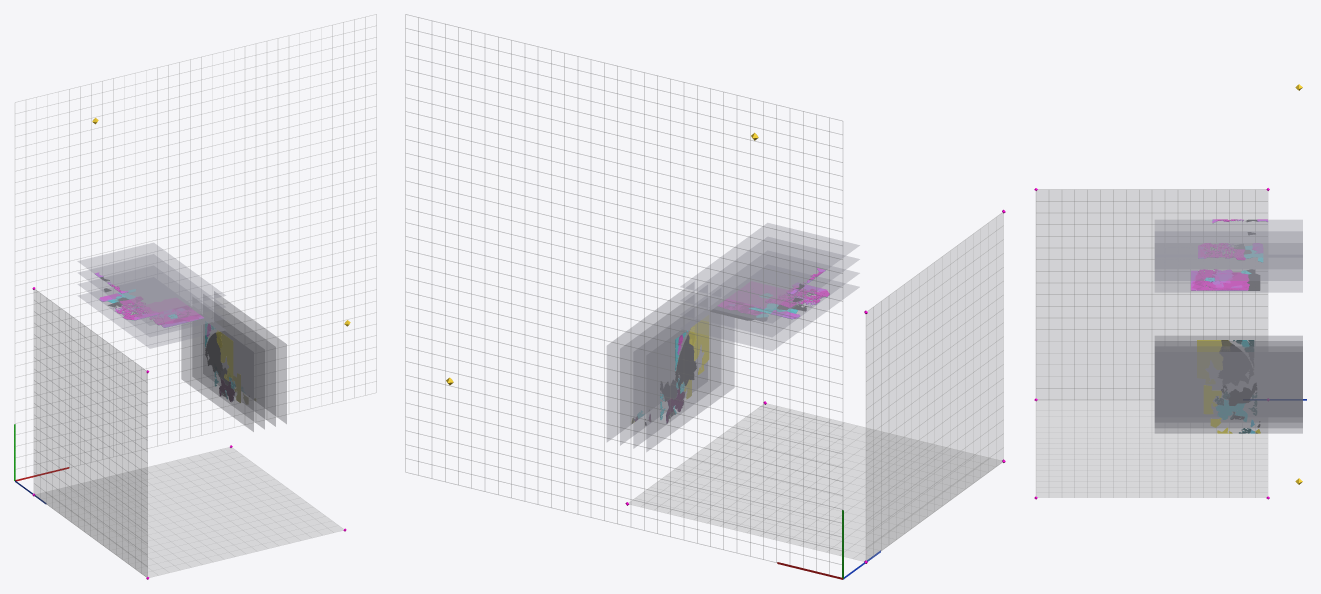
The model's file is shards.obj.
3 renders of one model, left to right at view 1: azimuth 30°, elevation 25°; view 2: azimuth 150°, elevation 25°; view 3: azimuth 270°, elevation 25°, orthographic. The views are drawn at different scales.
Visible parts, largest first — view 1: wall_A, wall_B, grid_floor, panel_B3, panel_B2, panel_A0, panel_A1, panel_A3, panel_A2, panel_B0, panel_B1, M (+4 smaller); view 2: wall_A, wall_B, grid_floor, panel_B3, panel_A0, panel_B2, panel_A1, panel_A3, panel_A2, panel_B0, panel_B1, grid_wallA (+5 smaller); view 3: wall_A, wall_B, panel_A2, panel_A3, panel_B2, panel_B3, grid_wallA, panel_B1, panel_B0, K, M, panel_A1 (+4 smaller).
Part boxes in pixels (x1,y1,x2,y2): wall_A: [34, 290, 147, 576]; wall_B: [36, 447, 343, 577]; grid_floor: [15, 14, 376, 469]; panel_B3: [77, 243, 225, 313]; panel_B2: [78, 254, 225, 325]; panel_A0: [181, 322, 253, 431]; panel_A1: [192, 311, 264, 429]; panel_A3: [214, 291, 286, 423]; panel_A2: [203, 299, 275, 426]; panel_B0: [78, 290, 225, 348]; panel_B1: [78, 279, 225, 336]; M: [94, 272, 233, 400]; wall_A: [866, 213, 1003, 560]; wall_B: [629, 404, 1001, 560]; grid_floor: [405, 14, 842, 574]; panel_B3: [680, 223, 859, 309]; panel_A0: [646, 319, 734, 451]; panel_B2: [680, 237, 859, 323]; panel_A1: [633, 305, 720, 448]; panel_A3: [607, 282, 694, 441]; panel_A2: [620, 292, 707, 445]; panel_B0: [680, 280, 859, 350]; panel_B1: [680, 266, 859, 336]; grid_wallA: [866, 212, 1003, 560]; wall_A: [1036, 190, 1267, 399]; wall_B: [1036, 400, 1267, 497]; panel_A2: [1155, 346, 1302, 427]; panel_A3: [1155, 352, 1302, 433]; panel_B2: [1155, 231, 1302, 268]; panel_B3: [1155, 220, 1302, 257]; grid_wallA: [1036, 189, 1267, 399]; panel_B1: [1155, 257, 1302, 280]; panel_B0: [1155, 269, 1302, 292]; K: [1192, 219, 1264, 433]; M: [1191, 219, 1268, 432]; panel_A1: [1155, 341, 1302, 351].
Size of the model in its own units: 3318 by 3318 by 2115.
